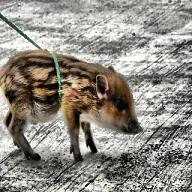boar: (0, 48, 142, 161)
